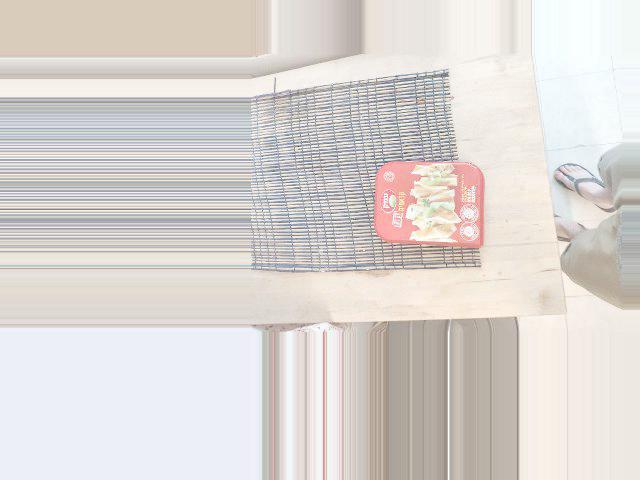cheese: (365, 156, 532, 261)
